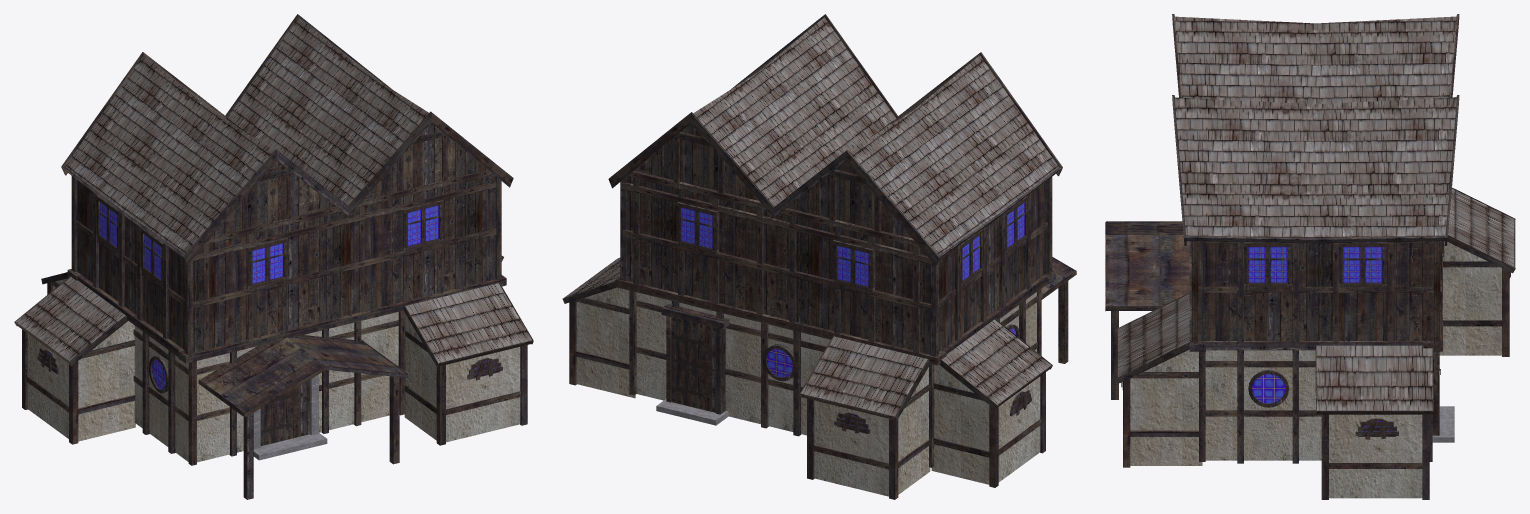
The model's file is house48.dae.
3 renders of one model, left to right at view 1: azimuth 30°, elevation 25°; view 2: azimuth 150°, elevation 25°; view 3: azimuth 270°, elevation 25°, orthographic. The views are drawn at different scales.
Parts seen in each view (by area): view 1: House1_Roof, House1_Level2, House1_Level2_Beams, House1_Level1, BuildingExtensions4_003, BuildingExtensions4, Roof1Outer, House1_Level1_Beams, BuildingExtensions4Roof, House1_Roof_Frame, BuildingExtensions4Roof_003, House1_Level1_SeperatorBeams (+15 smaller); view 2: House1_Roof, House1_Level2, House1_Level2_Beams, House1_Level1, BuildingExtensions4_003, BuildingExtensions4_001, BuildingExtensions4Roof_001, House1_Roof_Frame, House1_Level1_Beams, BuildingExtensions4Roof_003, BuildingExtensions4_002, House1_Level1_SeperatorBeams (+17 smaller); view 3: House1_Roof, House1_Level2, House1_Level1, BuildingExtensions4Roof_002, BuildingExtensions4_002, Roof1Outer, BuildingExtensions4, House1_Level2_Beams, BuildingExtensions4_001, House1_Level1_Beams, BuildingExtensions4Roof, BuildingExtensions4Roof_001 (+19 smaller).
Boxes of the visible parts, left/top/right/bottom form: House1_Roof: left=65, top=17, right=428, bottom=253; House1_Level2: left=77, top=123, right=495, bottom=352; House1_Level2_Beams: left=71, top=131, right=501, bottom=354; House1_Level1: left=134, top=312, right=398, bottom=462; BuildingExtensions4_003: left=27, top=321, right=135, bottom=441; BuildingExtensions4: left=404, top=314, right=520, bottom=442; Roof1Outer: left=200, top=335, right=405, bottom=412; House1_Level1_Beams: left=133, top=310, right=405, bottom=465; BuildingExtensions4Roof: left=405, top=283, right=531, bottom=362; House1_Roof_Frame: left=61, top=14, right=513, bottom=264; BuildingExtensions4Roof_003: left=16, top=277, right=125, bottom=360; House1_Level1_SeperatorBeams: left=67, top=269, right=506, bottom=363; House1_Roof: left=693, top=17, right=1058, bottom=254; House1_Level2: left=626, top=123, right=1046, bottom=354; House1_Level2_Beams: left=620, top=131, right=1052, bottom=356; House1_Level1: left=636, top=292, right=1036, bottom=435; BuildingExtensions4_003: left=931, top=364, right=1040, bottom=484; BuildingExtensions4_001: left=814, top=367, right=930, bottom=496; BuildingExtensions4Roof_001: left=801, top=336, right=927, bottom=416; House1_Roof_Frame: left=608, top=14, right=1062, bottom=265; House1_Level1_Beams: left=629, top=288, right=1041, bottom=467; BuildingExtensions4Roof_003: left=942, top=319, right=1051, bottom=404; BuildingExtensions4_002: left=576, top=287, right=635, bottom=398; House1_Level1_SeperatorBeams: left=615, top=270, right=1056, bottom=365; House1_Roof: left=1174, top=16, right=1456, bottom=237; House1_Level2: left=1198, top=242, right=1433, bottom=340; House1_Level1: left=1205, top=350, right=1321, bottom=460; BuildingExtensions4Roof_002: left=1316, top=345, right=1432, bottom=410; BuildingExtensions4_002: left=1329, top=414, right=1422, bottom=498; Roof1Outer: left=1106, top=222, right=1189, bottom=305; BuildingExtensions4: left=1130, top=349, right=1202, bottom=465; House1_Level2_Beams: left=1191, top=220, right=1442, bottom=341; BuildingExtensions4_001: left=1439, top=241, right=1501, bottom=355; House1_Level1_Beams: left=1199, top=350, right=1432, bottom=463; BuildingExtensions4Roof: left=1118, top=294, right=1189, bottom=377; BuildingExtensions4Roof_001: left=1448, top=188, right=1514, bottom=266.
Size of the model in its own units: 10.92 by 8.36 by 7.57.
21 materials, 21 textured.
